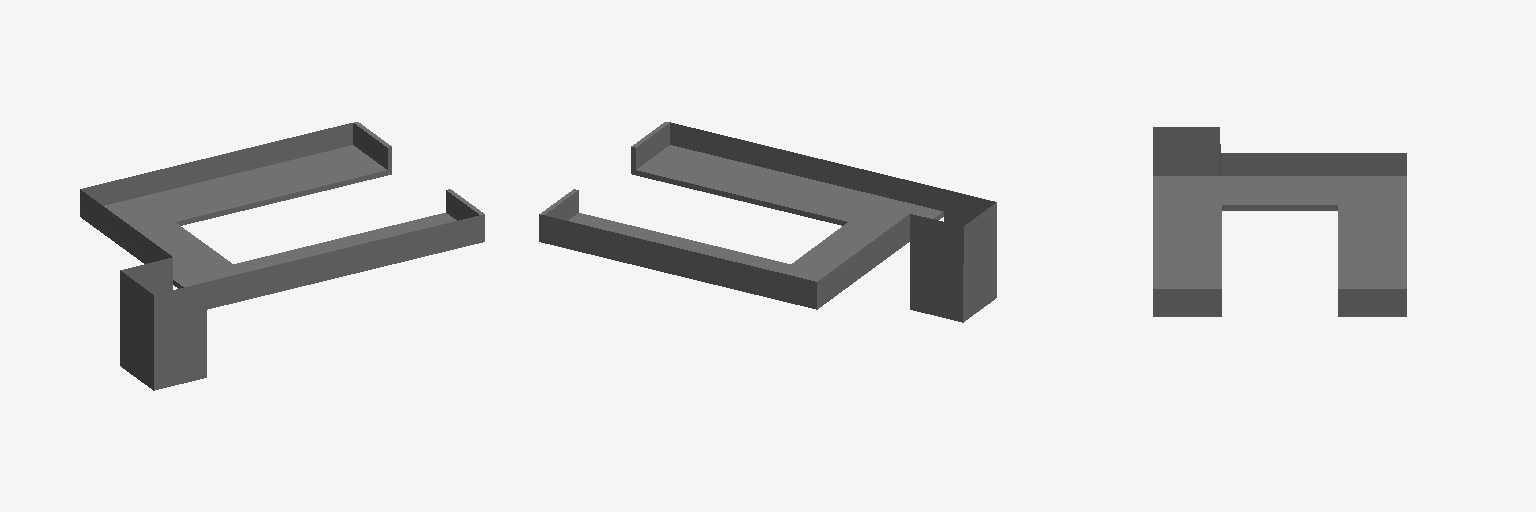
Rendered from Chat.obj.
3 renders of one model, left to right at view 1: azimuth 30°, elevation 25°; view 2: azimuth 150°, elevation 25°; view 3: azimuth 270°, elevation 25°, orthographic.
Visible parts, largest first — view 1: polySurface2651; view 2: polySurface2651; view 3: polySurface2651.
Part boxes in pixels (bbox=[...]): polySurface2651: bbox=[80, 122, 484, 390]; polySurface2651: bbox=[539, 122, 996, 322]; polySurface2651: bbox=[1153, 127, 1406, 316].
Bounding box in the file's own units: 3697 × 1022 × 2450.